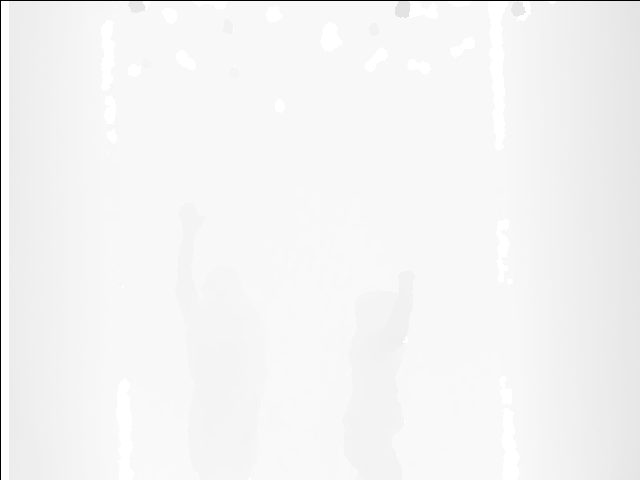hand: (178, 202, 204, 242), (395, 268, 418, 297)
